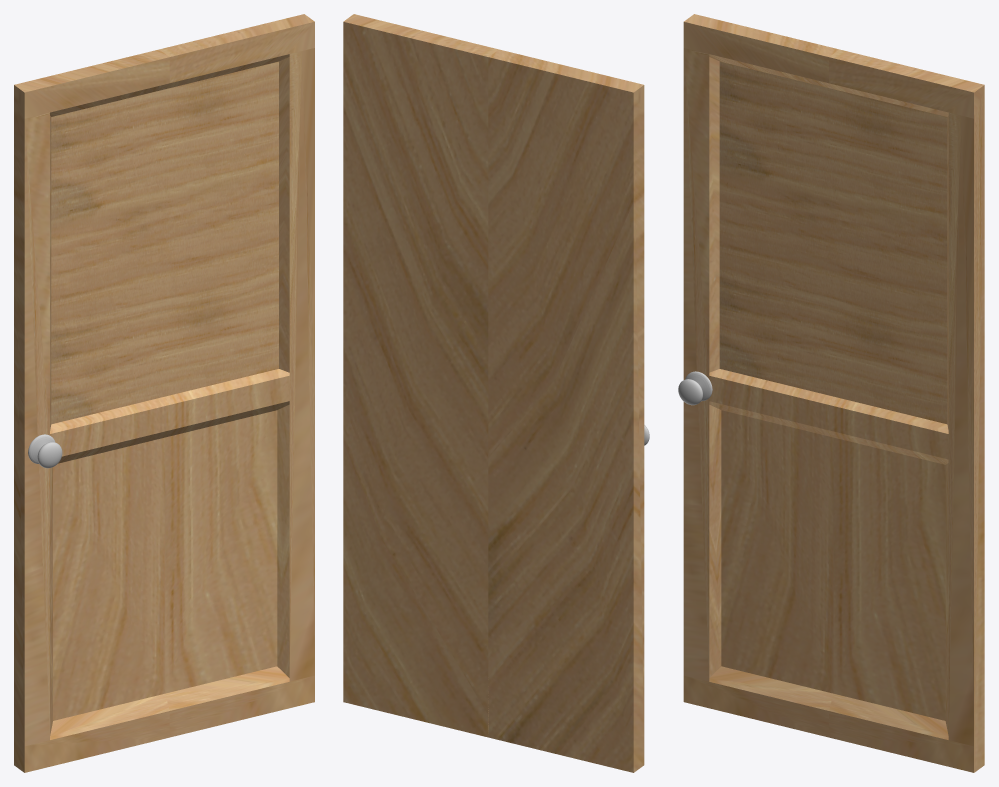
Rendered from door.fbx.
3 views of the same model, side by side, from view 1: azimuth 30°, elevation 25°; view 2: azimuth 150°, elevation 25°; view 3: azimuth 330°, elevation 25° (orthographic).
Visible parts, largest first — view 1: Cube, Cube.001, Sphere; view 2: Cube; view 3: Cube, Cube.001, Sphere.
Boxes of the visible parts, <box> form: Cube: <box>14,14,314,772</box>; Cube.001: <box>51,61,278,424</box>; Sphere: <box>28,434,62,468</box>; Cube: <box>343,14,644,772</box>; Cube: <box>683,14,984,772</box>; Cube.001: <box>719,61,947,423</box>; Sphere: <box>678,371,712,405</box>.
Bounding box in the file's own units: 408 × 914 × 55.21.
Materials: 2 (1 with a texture image).
